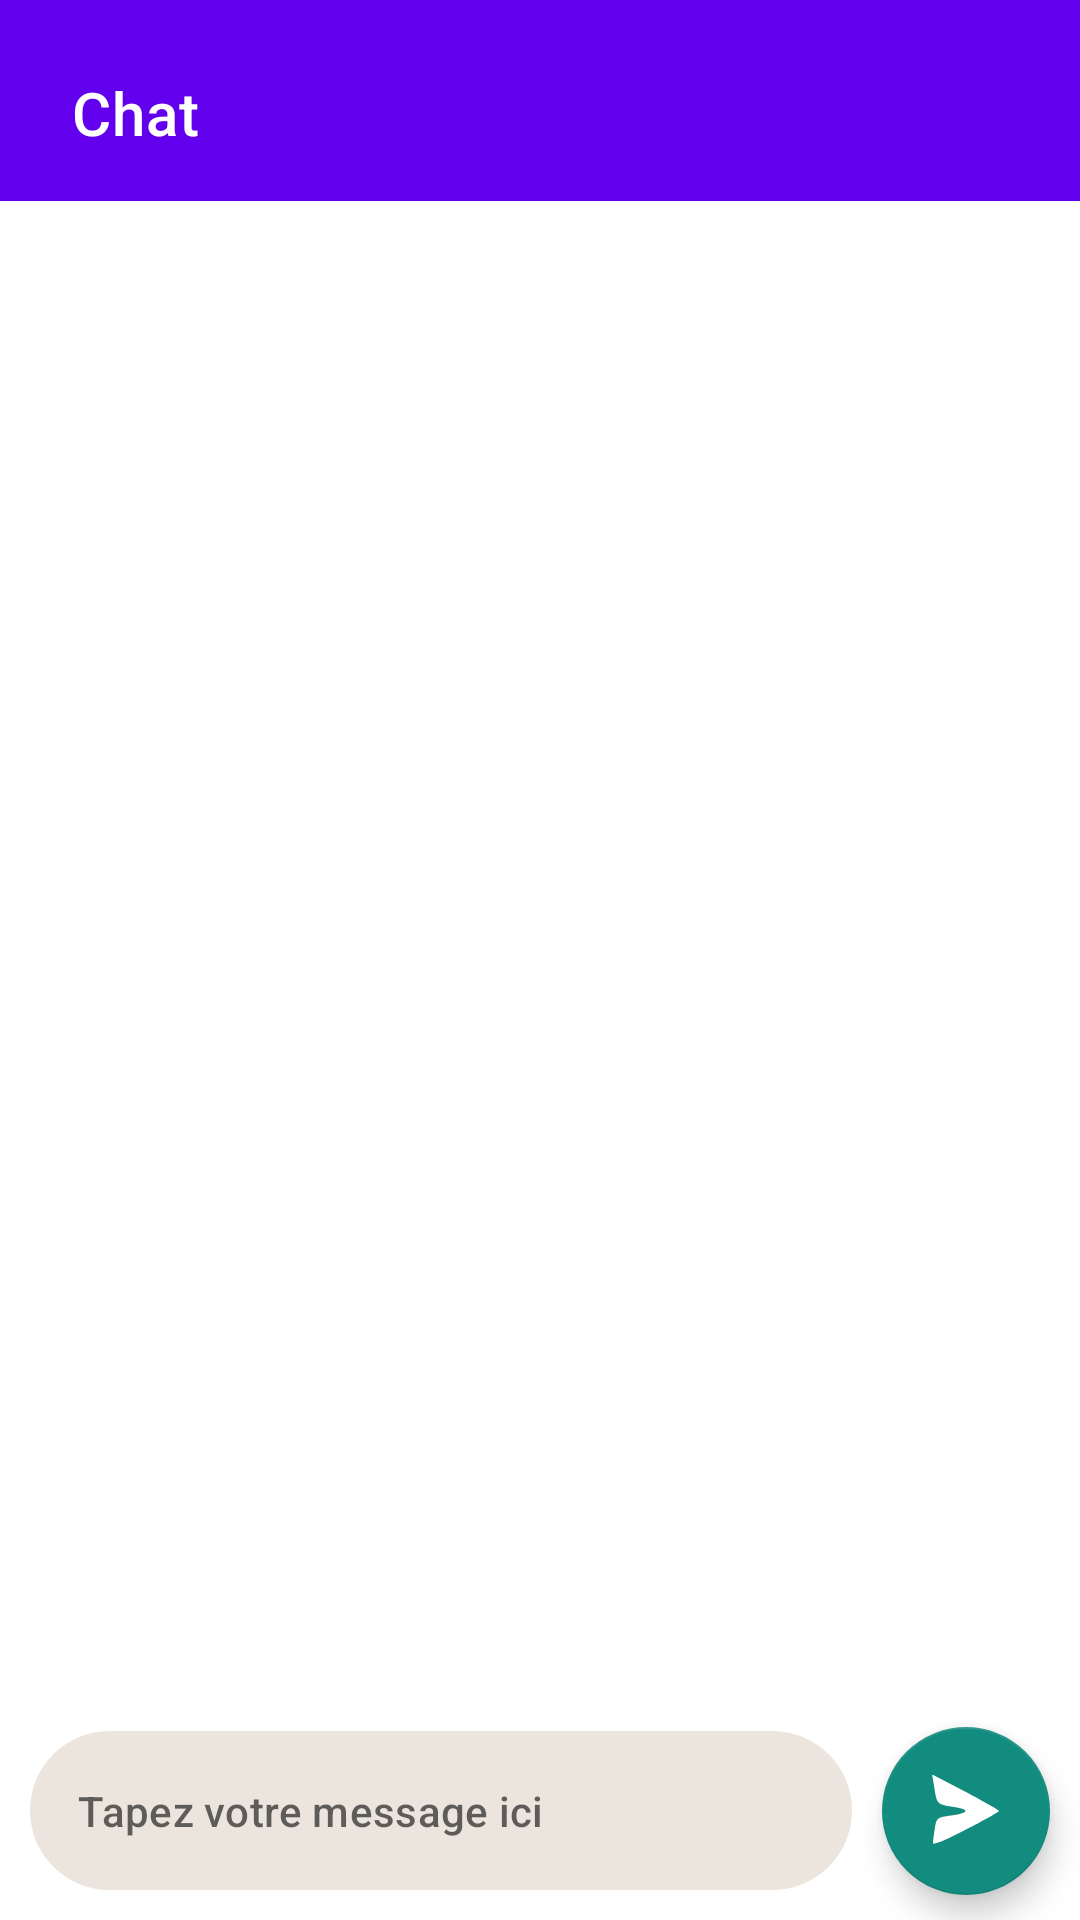

Screen size 1080px x 1920px. Icon name, then its center in pixels as (x,y):
send: (966,1811)
